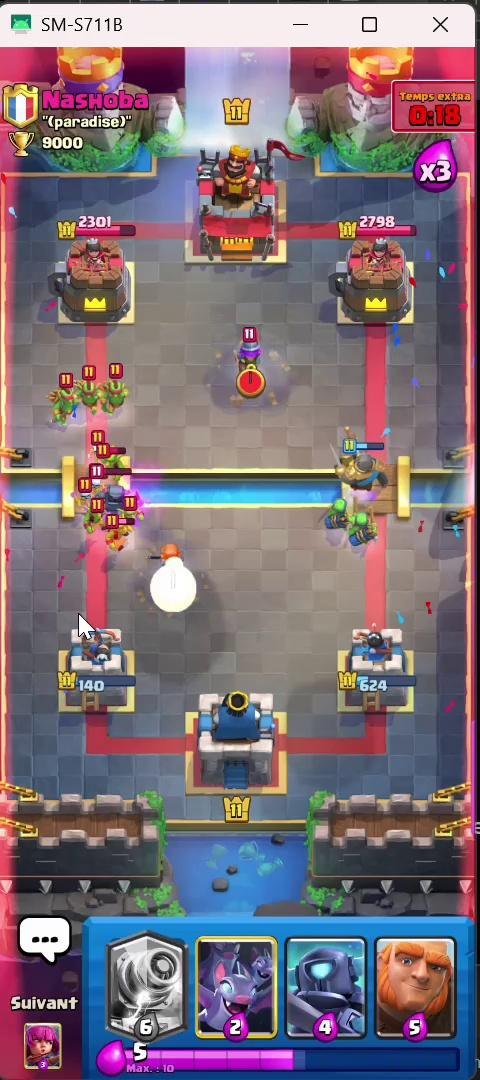chevalier: (324, 433, 392, 497)
gobelin: (95, 443, 133, 476), (106, 519, 140, 555), (83, 505, 115, 528), (121, 497, 145, 521)
gobelin_lances: (68, 351, 103, 418), (47, 362, 83, 424), (104, 361, 137, 419), (340, 506, 383, 550), (317, 488, 345, 530)
mini_PEKKA: (87, 471, 149, 517)
mousquetaire: (211, 326, 288, 409)
squelette: (70, 427, 112, 458), (64, 474, 87, 512), (85, 461, 106, 486)
valkyrie: (154, 540, 197, 591)
